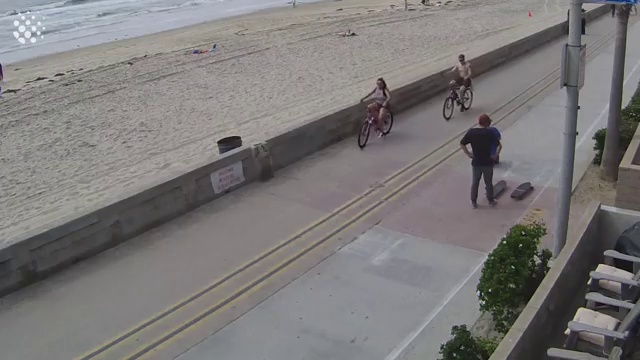face: (376, 80, 383, 88), (458, 57, 464, 64)
